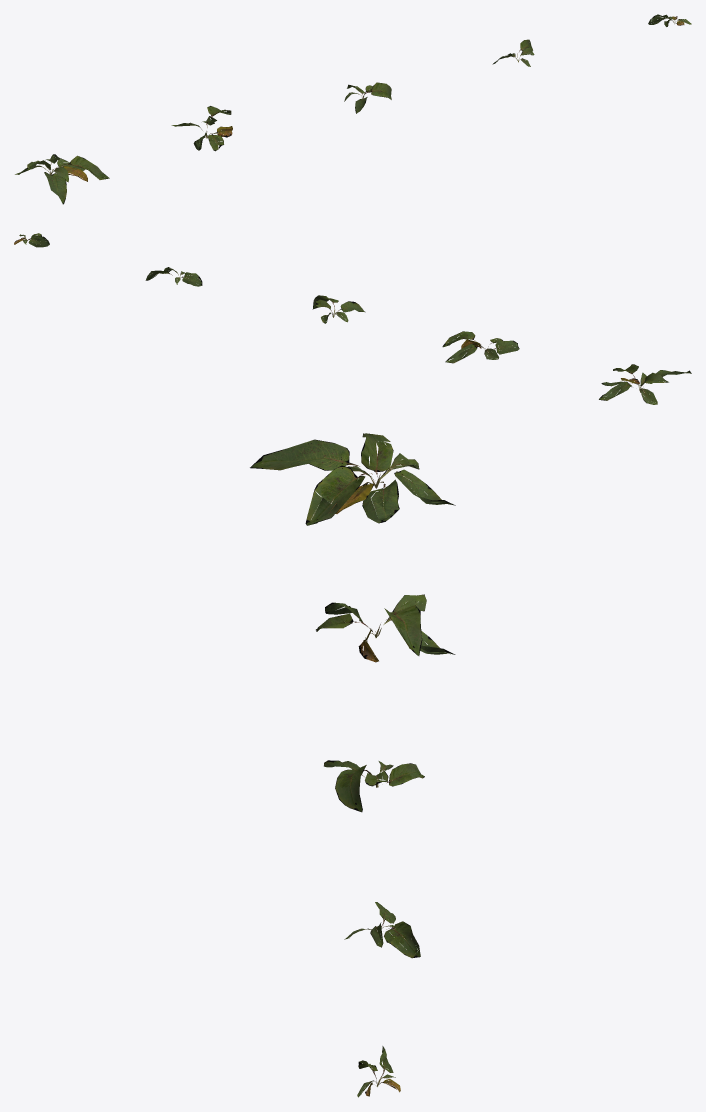
The model's file is ph_weed_plant_02.glb.
3 views of the same model, one above another, from view 1: azimuth 30°, elevation 25°; view 2: azimuth 150°, elevation 25°; view 3: azimuth 270°, elevation 25° (orthographic). The views are drawn at different scales.
Visible parts, largest first — view 1: weed_plant_02_a_LOD0, weed_plant_02_b_LOD0, weed_plant_02_c_LOD0, weed_plant_02_d_LOD0; view 2: weed_plant_02_a_LOD0, weed_plant_02_b_LOD0, weed_plant_02_c_LOD0, weed_plant_02_d_LOD0, weed_plant_02_e_LOD0; view 3: weed_plant_02_a_LOD0, weed_plant_02_b_LOD0, weed_plant_02_c_LOD0, weed_plant_02_d_LOD0.
Boxes of the visible parts, x1,y1,x2,y2 form: weed_plant_02_a_LOD0: [15, 154, 109, 204]; weed_plant_02_b_LOD0: [171, 106, 232, 151]; weed_plant_02_c_LOD0: [344, 82, 391, 113]; weed_plant_02_d_LOD0: [492, 39, 534, 66]; weed_plant_02_a_LOD0: [599, 364, 691, 404]; weed_plant_02_b_LOD0: [442, 331, 519, 363]; weed_plant_02_c_LOD0: [312, 295, 365, 323]; weed_plant_02_d_LOD0: [145, 267, 202, 286]; weed_plant_02_e_LOD0: [14, 233, 49, 247]; weed_plant_02_a_LOD0: [250, 433, 455, 525]; weed_plant_02_b_LOD0: [316, 594, 455, 662]; weed_plant_02_c_LOD0: [324, 760, 424, 812]; weed_plant_02_d_LOD0: [344, 902, 420, 958].
Size of the model in its own units: 2.13 by 0.0744 by 0.2912.
Materials: 2 (2 with a texture image).
